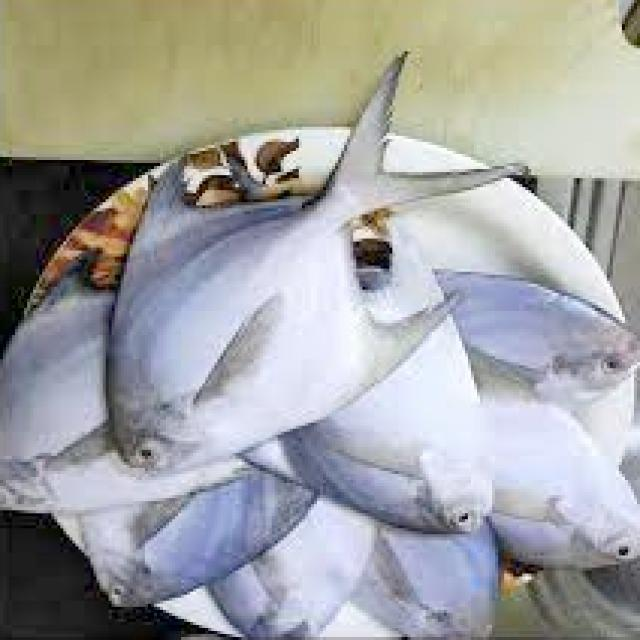pomfred: (104, 50, 523, 479)
